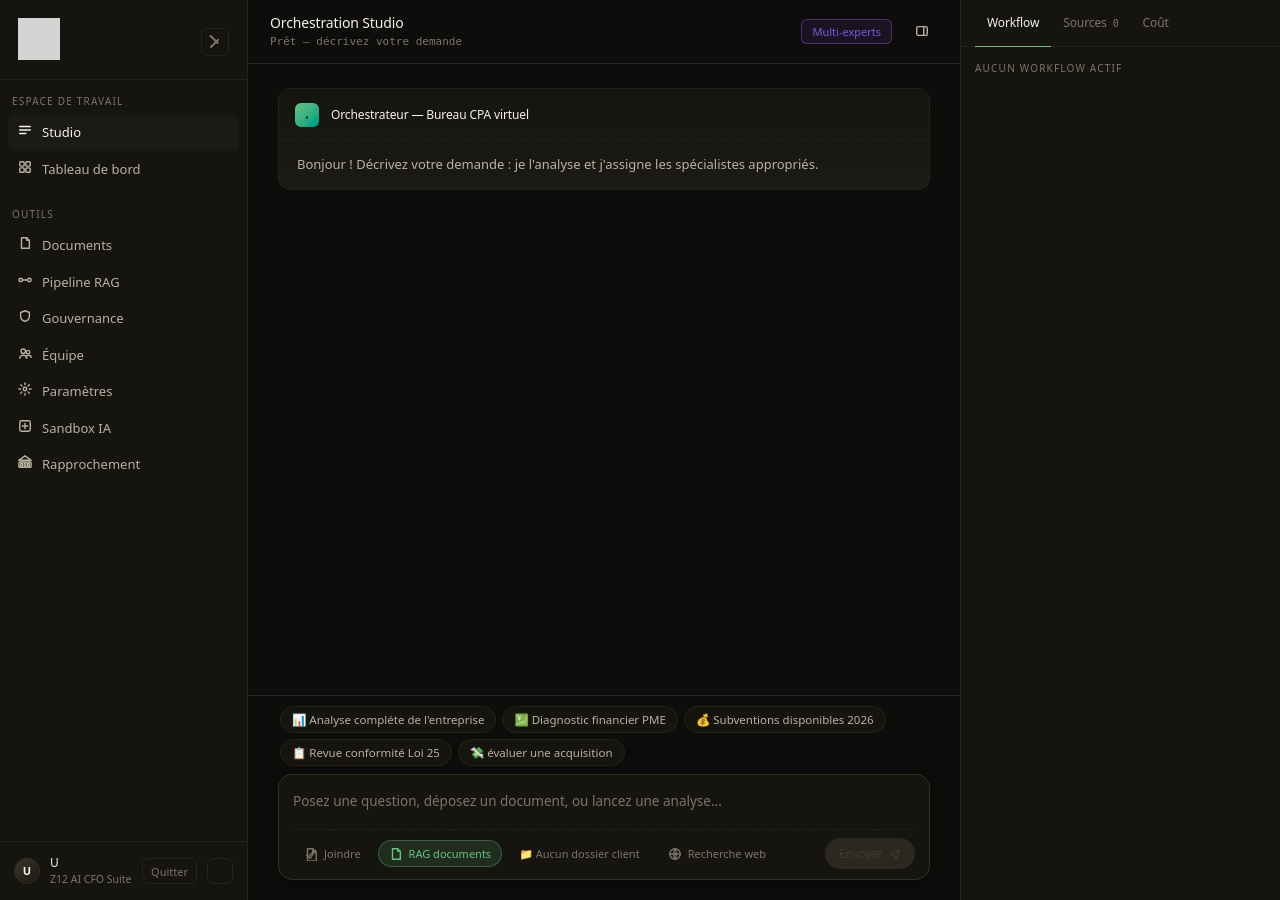
Scenario: settings view › shows an ordinary user their own usage and nothing else
This screenshot has width=1280, height=900.
What coordinates should you click on to do the following:
click the element showing "Paramètres"
I would click on:
 (65, 391)
Its box is [18,382,112,400].
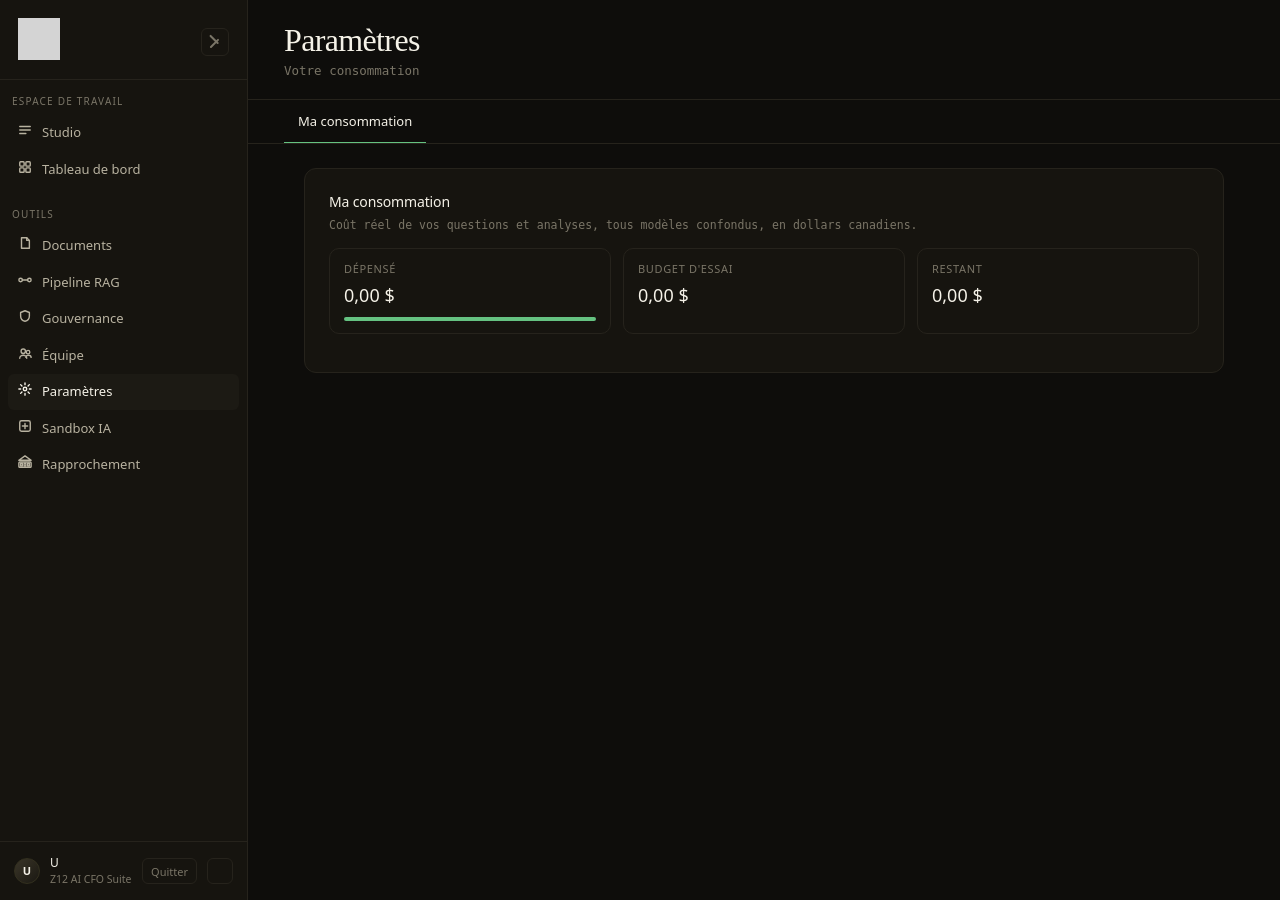
Expected: the element with test id "my-usage-panel" is shown, [304,168,1224,373]
